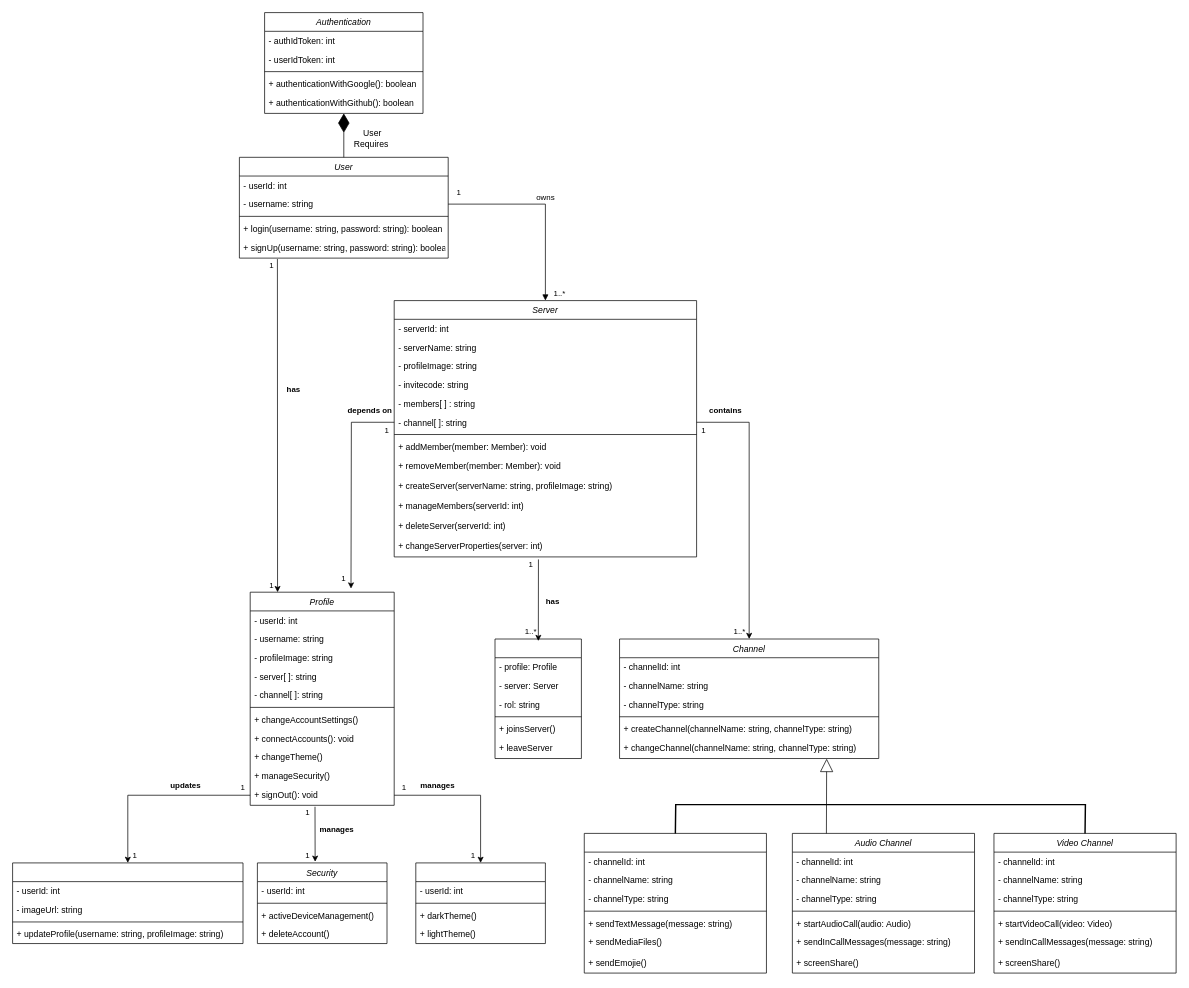
The diagram is 1189 pixels wide and 988 high, and some of its shapes have lost their labels. Here are the shapes that lost their labels. From the top down, the box of each, then its label:
(494, 638, 581, 759): Members
(12, 862, 243, 944): Account Settings
(415, 862, 545, 944): Themes
(584, 833, 766, 973): Text Channel
